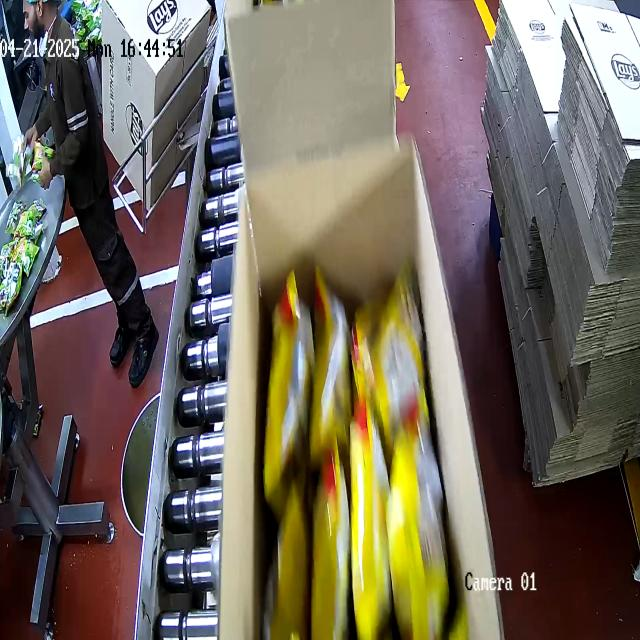SALTED: (267, 271, 446, 640)
